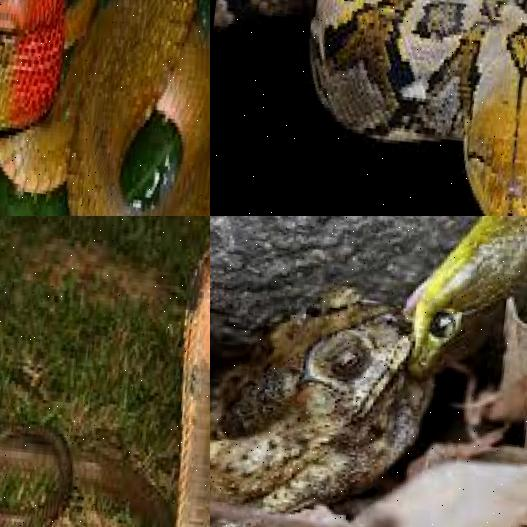snake: (210, 0, 527, 216), (0, 216, 210, 527), (0, 0, 210, 216), (354, 216, 527, 428)
